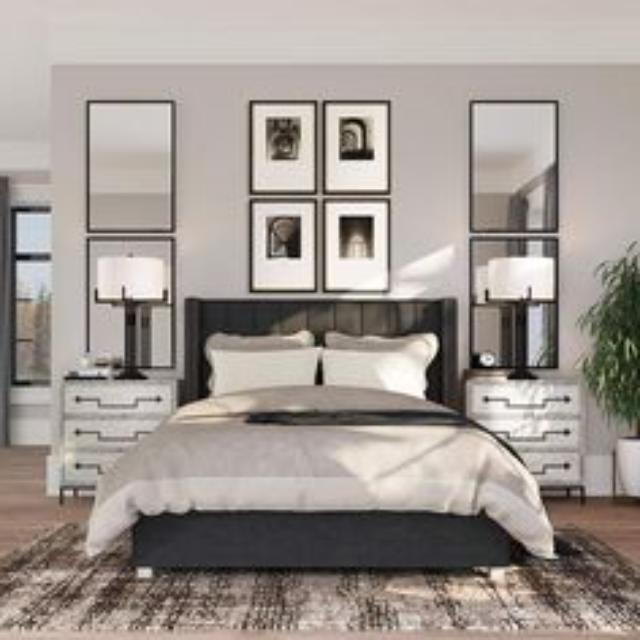bed: (88, 301, 552, 567)
lamp: (98, 259, 165, 378), (489, 258, 554, 378)
plant: (579, 241, 640, 496)
rug: (0, 525, 640, 631)
table: (468, 378, 582, 499), (60, 381, 171, 499)
wall-art: (471, 101, 558, 232), (89, 101, 172, 231), (471, 240, 554, 367), (89, 240, 171, 361), (251, 101, 315, 193), (325, 101, 389, 192), (325, 200, 389, 291), (251, 201, 315, 291), (136, 301, 172, 368), (526, 301, 556, 368)
